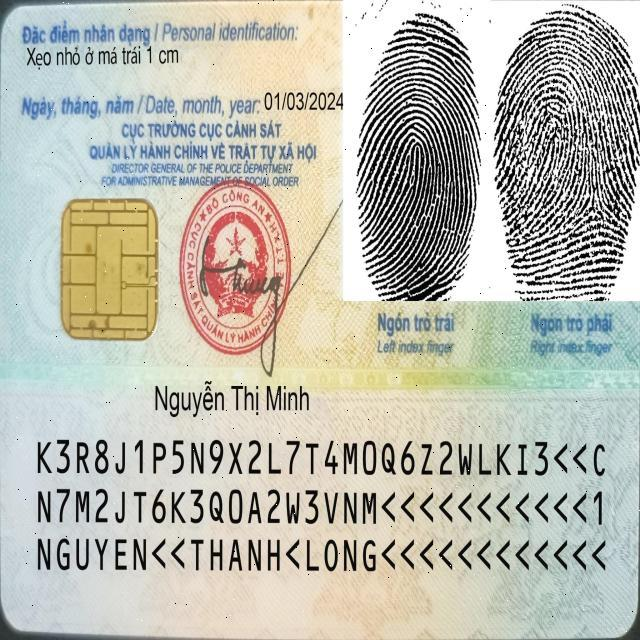features: (25, 42, 186, 70)
finger_print: (492, 2, 640, 362), (343, 3, 488, 364)
issue_date: (261, 85, 346, 118)
